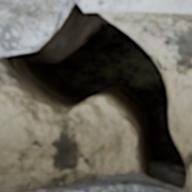brick: (41, 173, 182, 191)
broken_brick: (0, 0, 71, 58), (79, 0, 191, 14)
crack: (0, 0, 190, 191)
